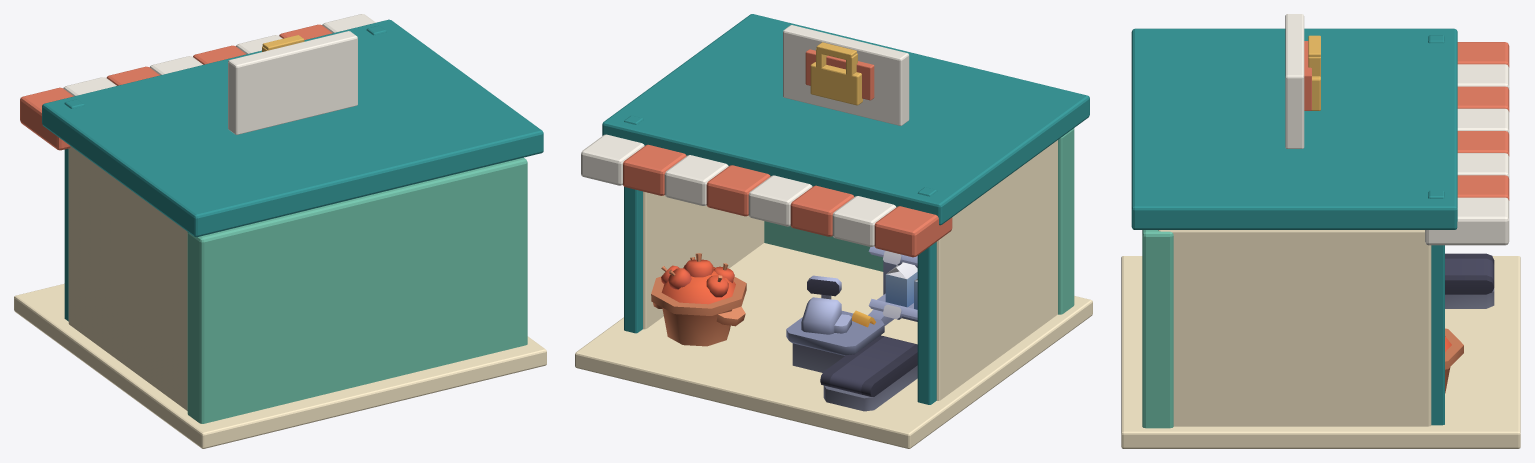
File: shop.glb
The picture shows the model from 3 angles, left to right: view 1: azimuth 30°, elevation 25°; view 2: azimuth 150°, elevation 25°; view 3: azimuth 270°, elevation 25°; orthographic projection. The views are drawn at different scales.
Parts seen in each view (by area): view 1: shop; view 2: shop, cash-register, display-fruit, shelf-boxes, carton; view 3: shop, cash-register, display-fruit.
Part boxes in pixels (x1,y1,x2,y2): shop: [14, 14, 546, 448]; shop: [575, 14, 1092, 448]; cash-register: [786, 275, 917, 411]; display-fruit: [651, 253, 746, 346]; shelf-boxes: [868, 246, 917, 325]; carton: [885, 262, 917, 307]; shop: [1121, 14, 1520, 448]; cash-register: [1445, 253, 1494, 308]; display-fruit: [1445, 328, 1463, 393].
Size of the model in its own units: 4.05 by 3.32 by 3.8.
9 materials, 3 textured.
